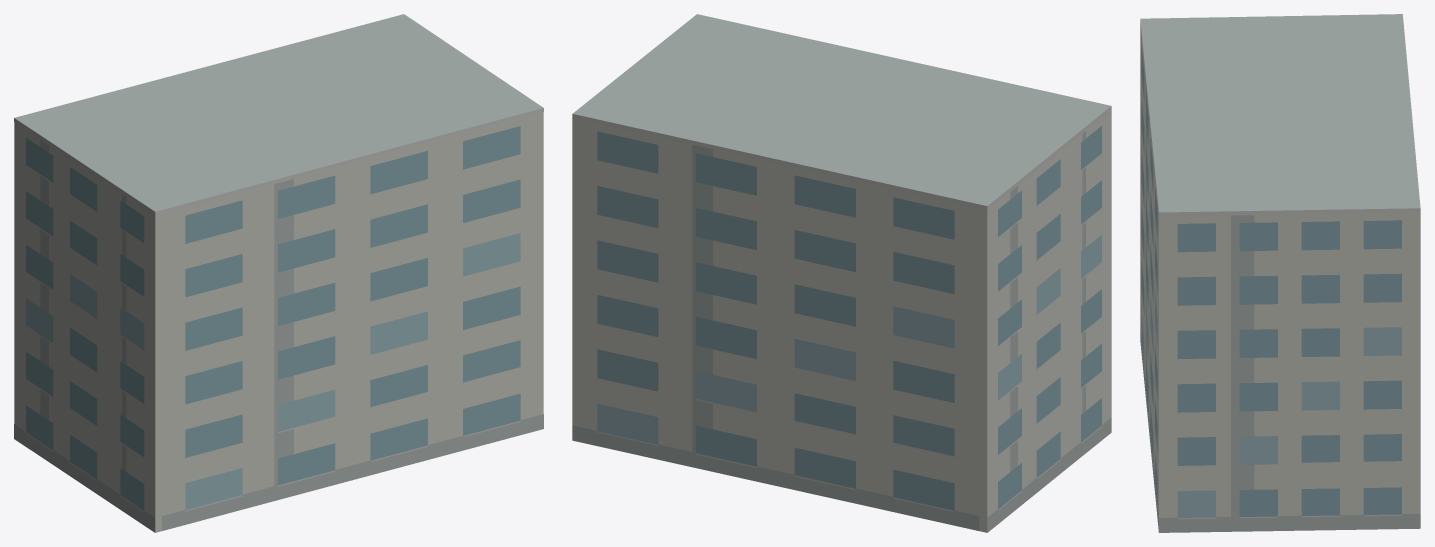
File: survey-upis-32629986.glb
3 renders of one model, left to right at view 1: azimuth 30°, elevation 25°; view 2: azimuth 150°, elevation 25°; view 3: azimuth 270°, elevation 25°, orthographic.
Visible parts, largest first — view 1: survey-upis-32629986.tmp; view 2: survey-upis-32629986.tmp; view 3: survey-upis-32629986.tmp.
Boxes of the visible parts, x1=… form: survey-upis-32629986.tmp: x1=14, y1=14, x2=543, y2=532; survey-upis-32629986.tmp: x1=572, y1=14, x2=1111, y2=532; survey-upis-32629986.tmp: x1=1140, y1=14, x2=1420, y2=532.
Bounding box in the file's own units: 24.31 × 18.3 × 14.51.
